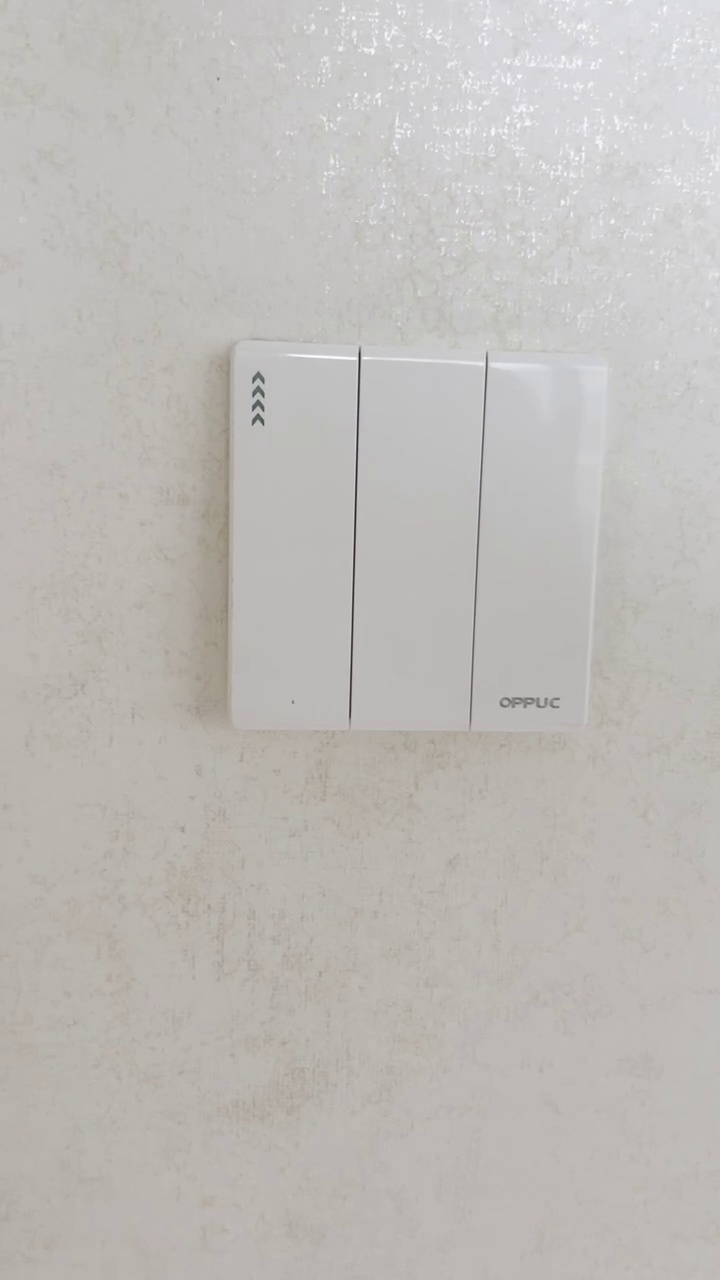button1: (478, 359, 600, 729), (355, 352, 473, 734), (237, 349, 352, 730)
